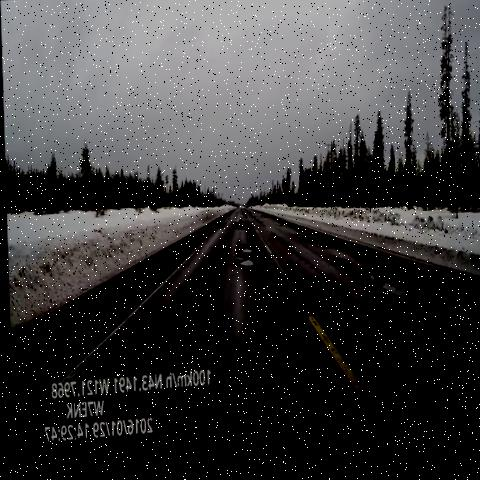pothole: (344, 255, 449, 347), (286, 223, 330, 269), (231, 241, 261, 279), (229, 220, 253, 243)
